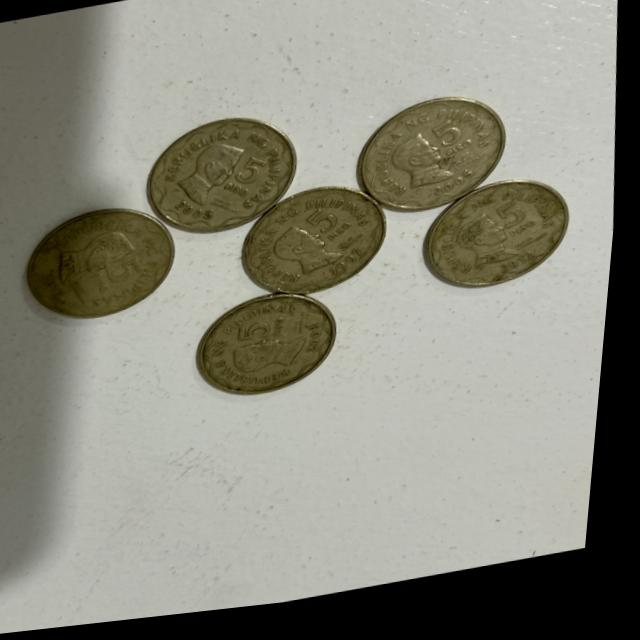5_Old_Front: (426, 119, 483, 174), (81, 257, 153, 299), (223, 158, 281, 210), (304, 207, 363, 256), (491, 203, 547, 248), (234, 315, 291, 353)
